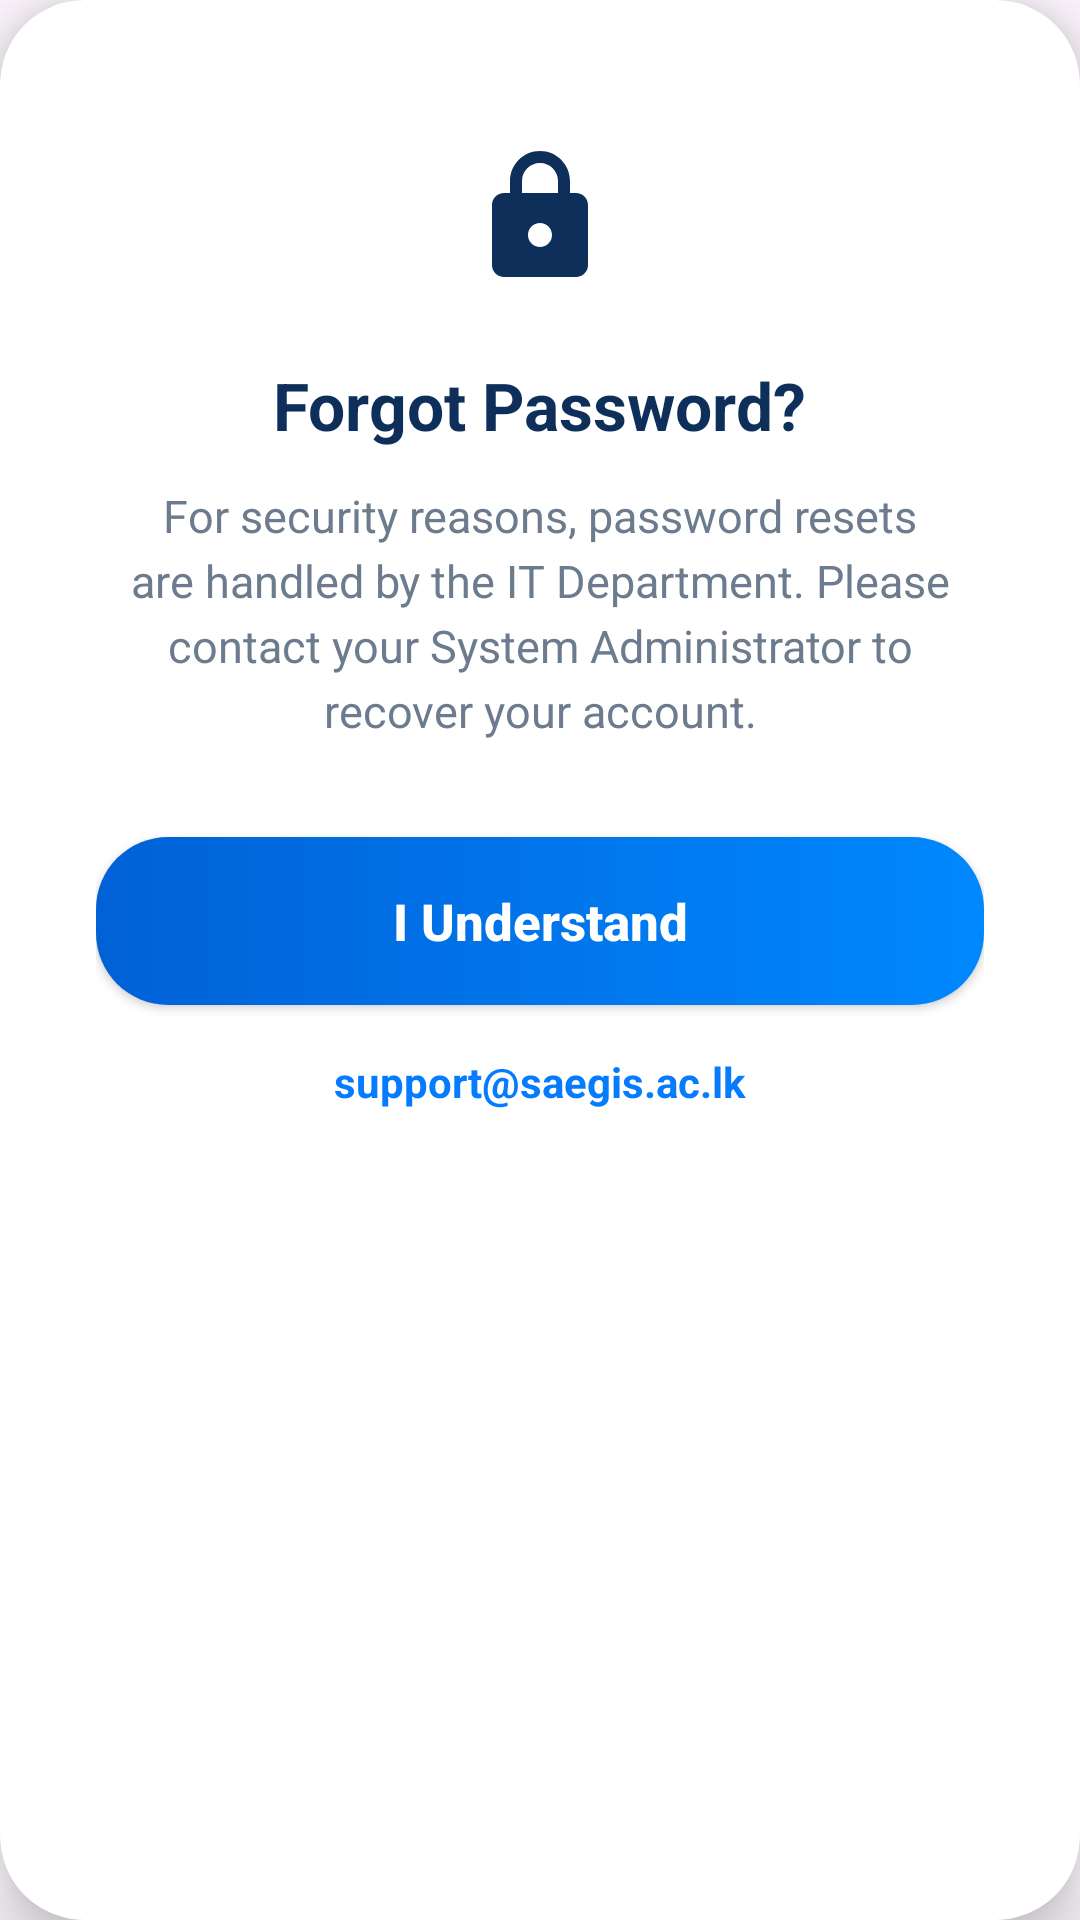

Locate icon controls on the screen. Image size 1080px×1920px, boxes as bbox=(x1, y1, x2, y2).
lock: bbox=(492, 151, 588, 277)
